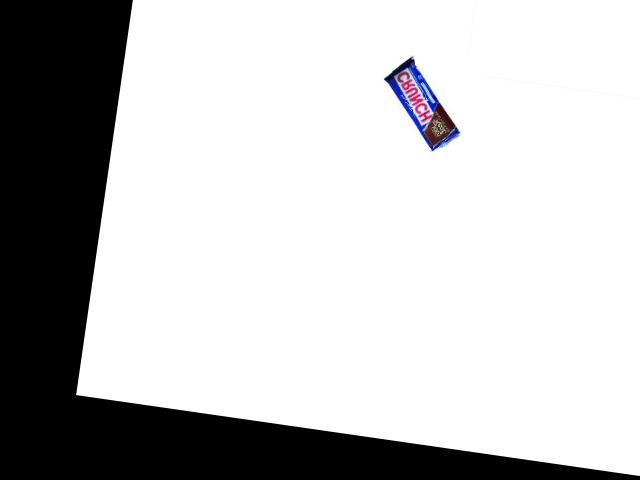chocolate: (373, 51, 471, 157)
